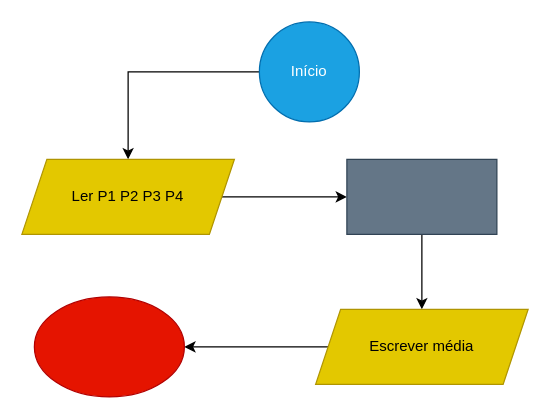
The diagram is 550 pixels wide and 419 high, and some of its shapes have lost their labels. The centre of each missing label's shape, as x and y in pixels:
Fim: (108,346)
Média= (P1+P2+P3+P4)/4: (421,196)
